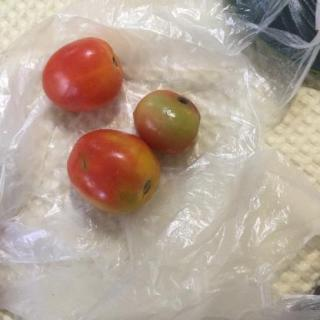Tomat: (62, 122, 173, 218), (42, 32, 127, 114), (125, 76, 209, 155)
